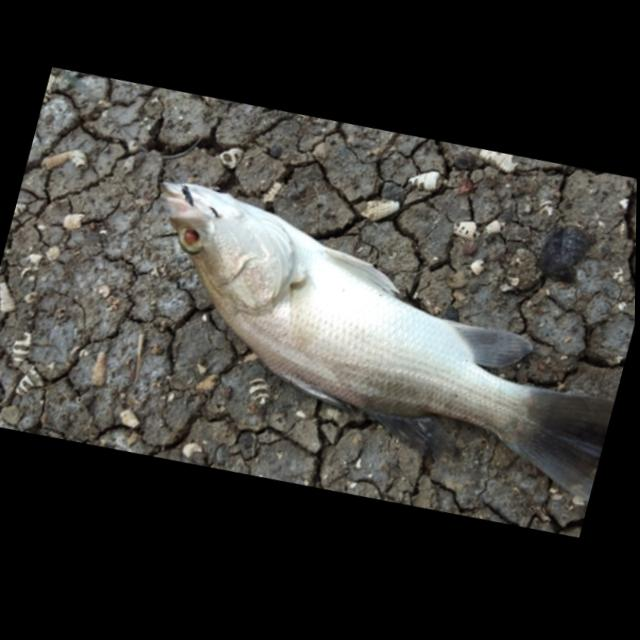Seabass: (100, 148, 637, 532)
